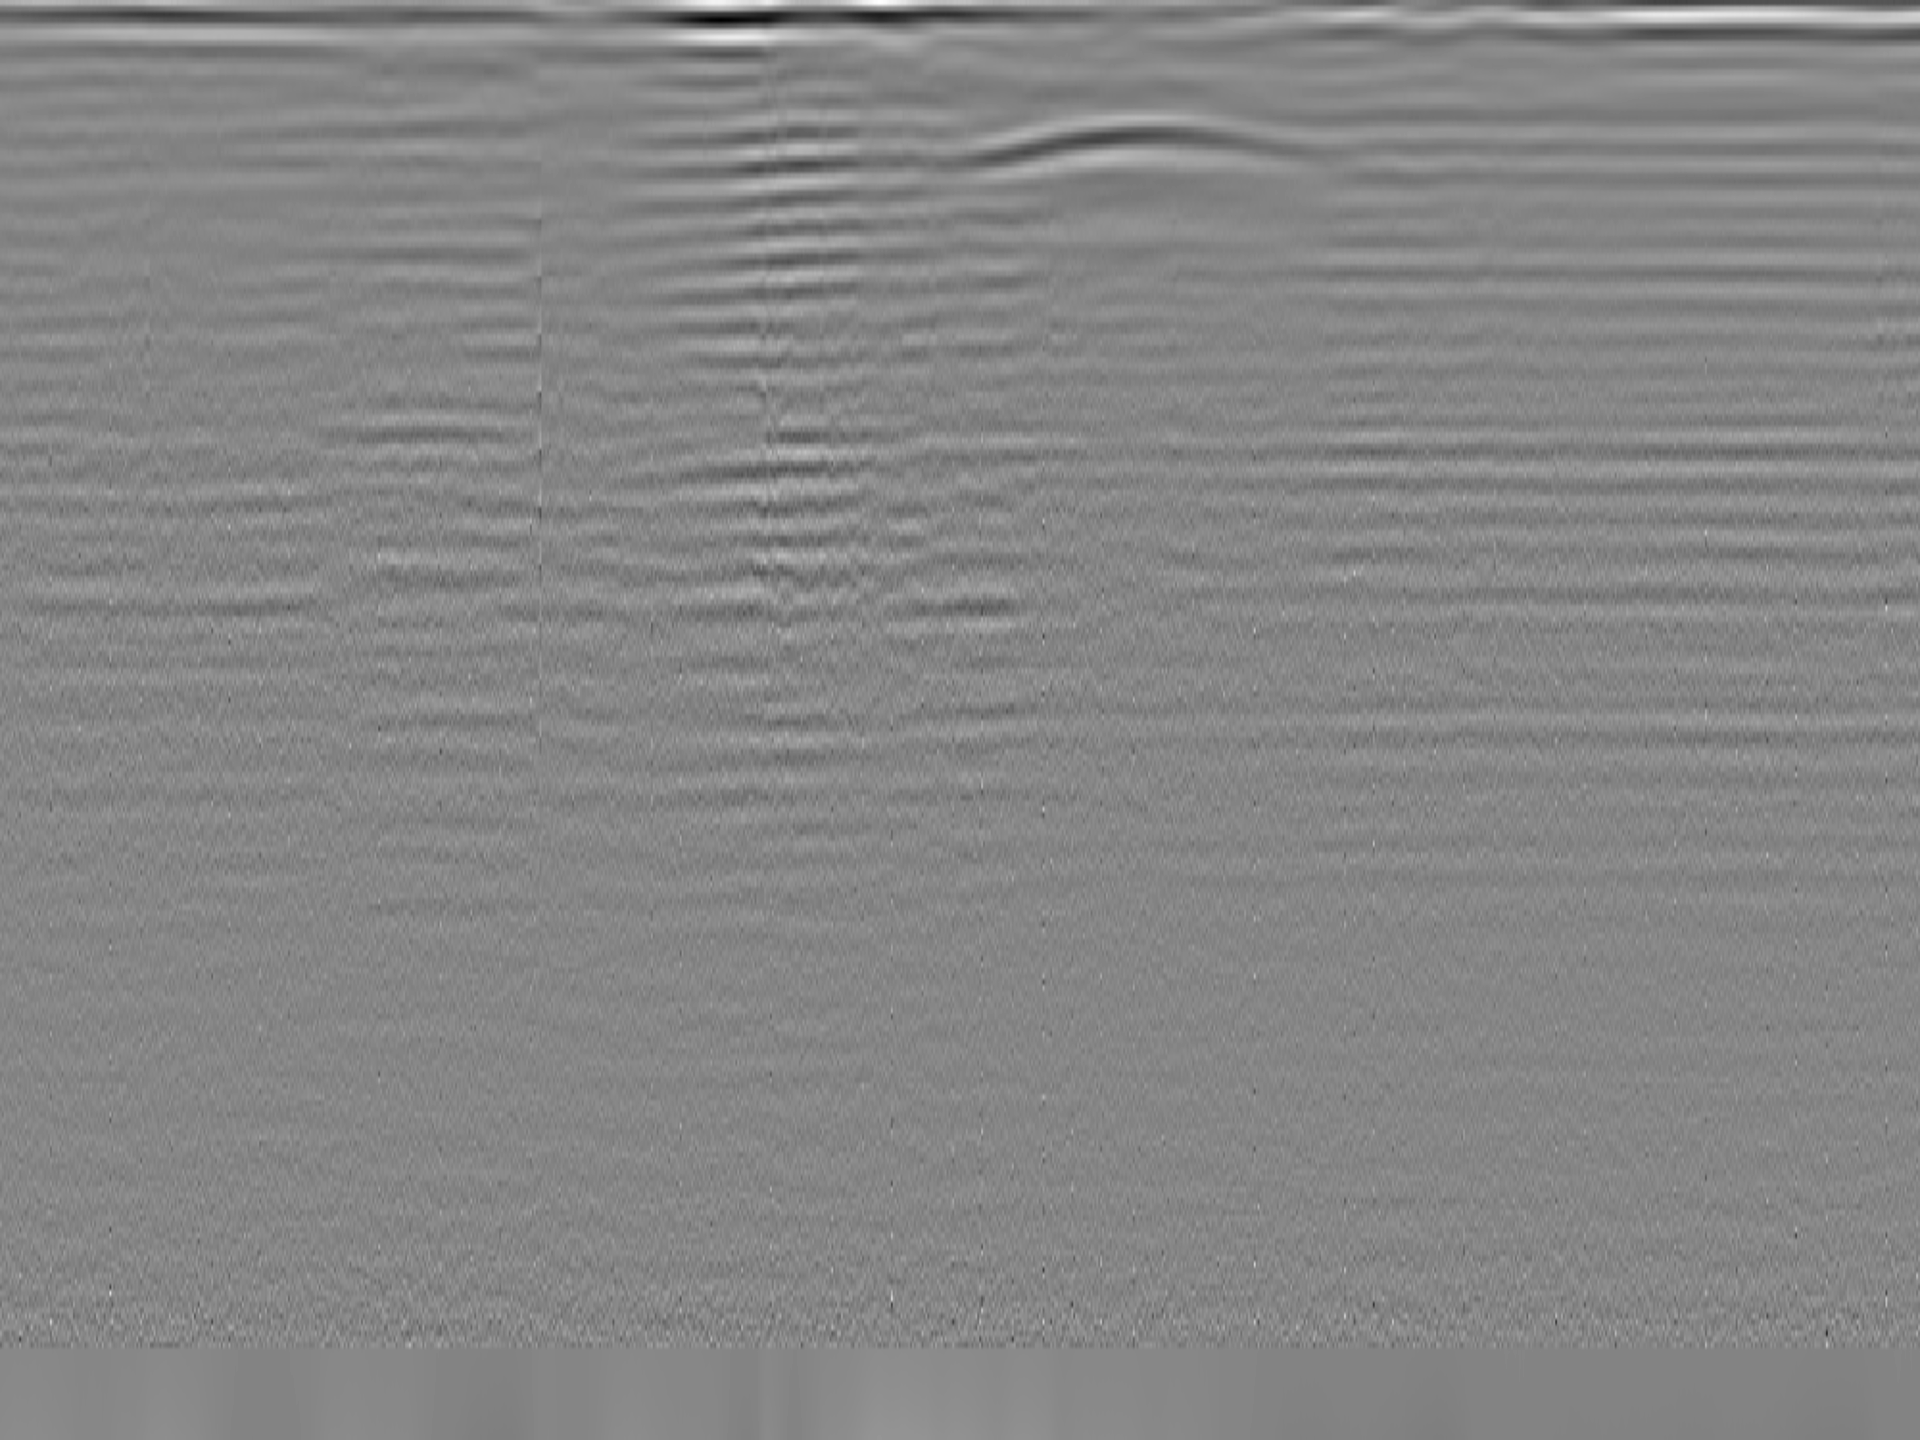Tunnel: (980, 109, 1317, 178)
